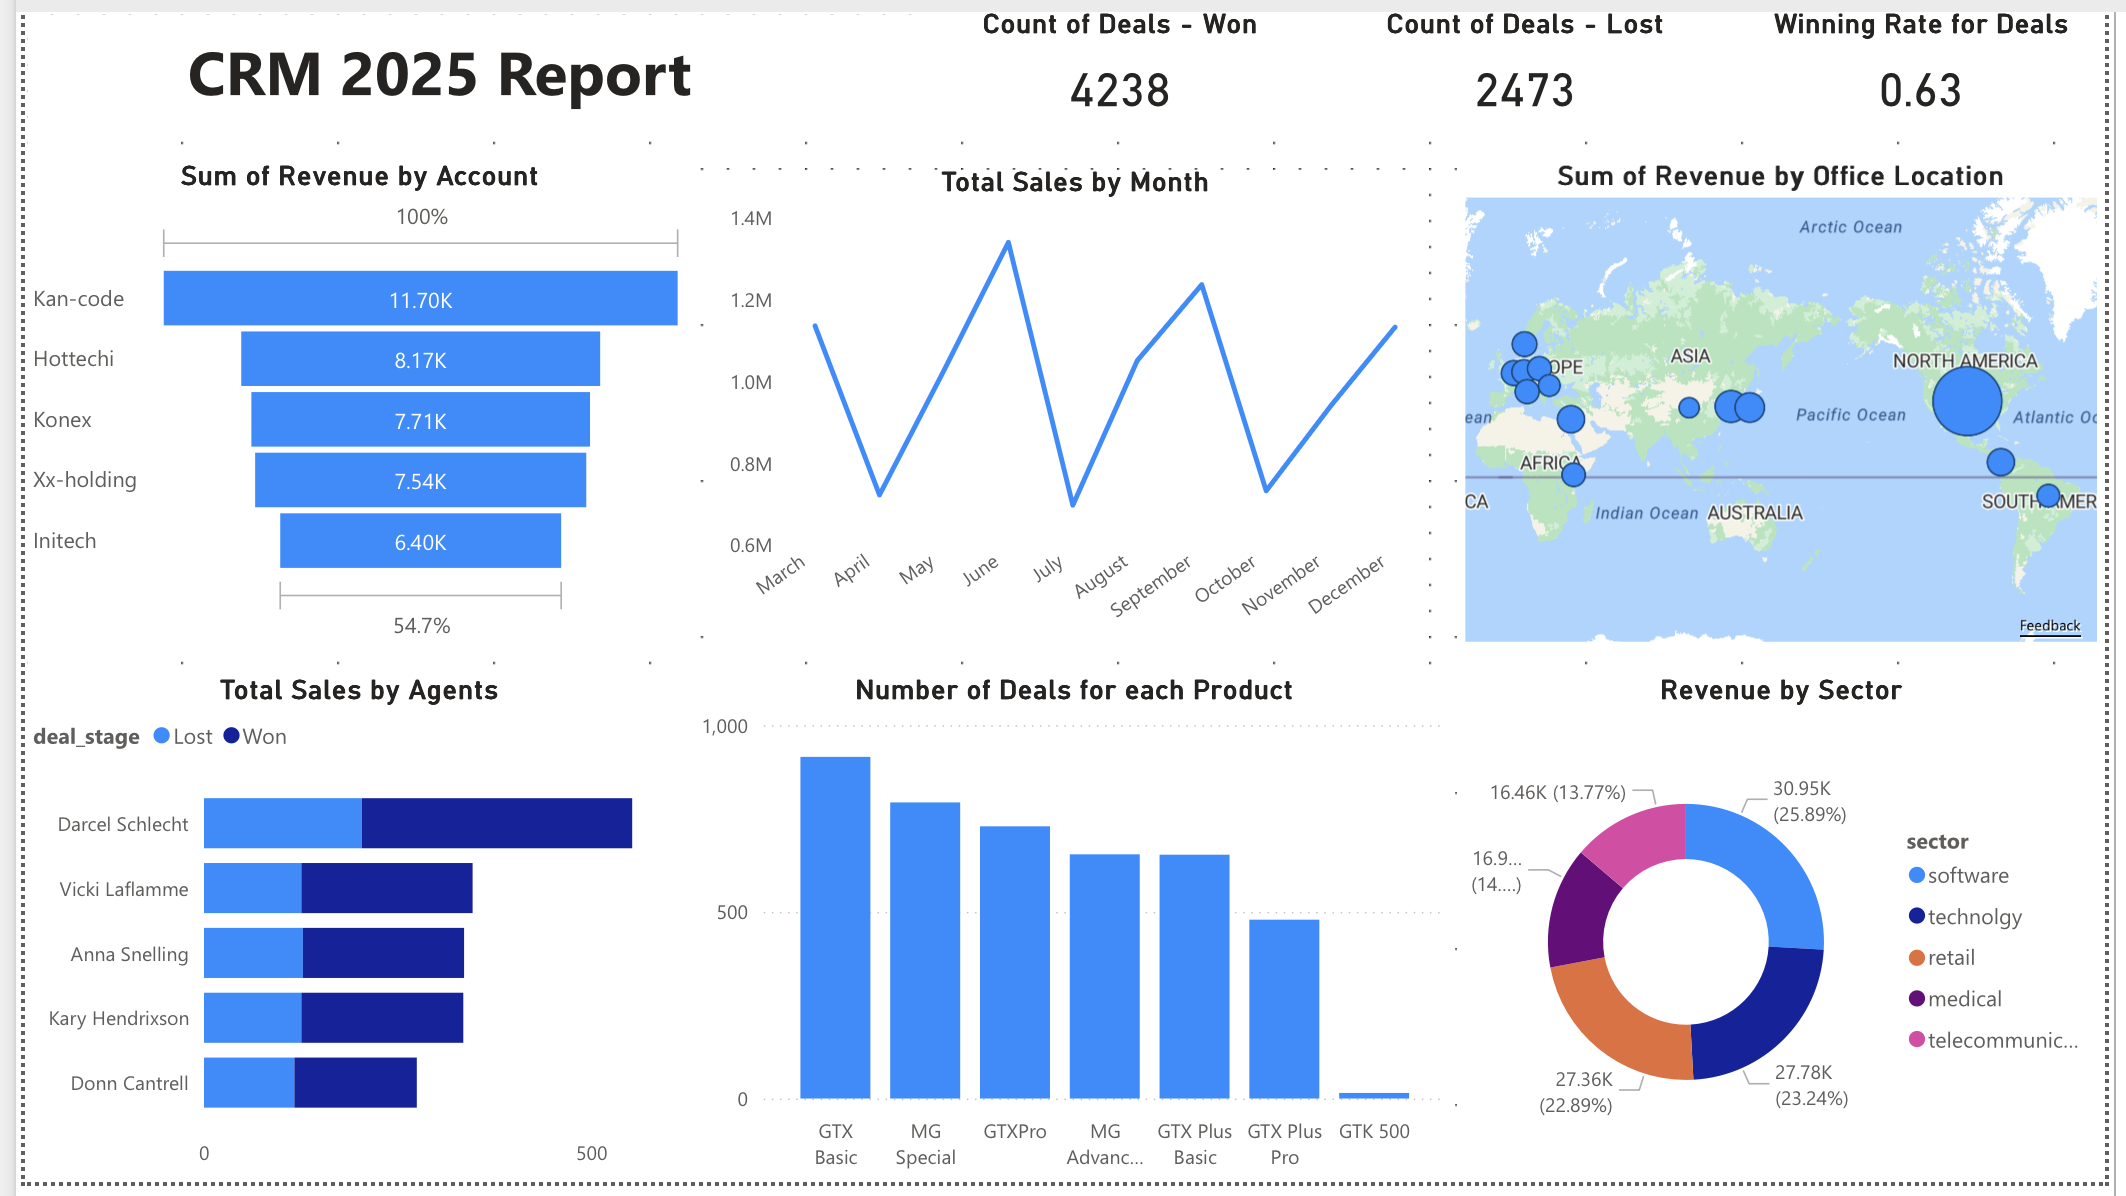

What the dashboard file says about the page in this screenshot:
{"tool":"powerbi","page":{"name":"Page 1","canvas":[1280,720],"ordinal":0},"visuals":[{"type":"barChart","title":"Total Sales by Agents","fields":{"Category":["Sales Pipeline.sales_agent"],"Y":["Sales Pipeline.close_value"],"Series":["Sales Pipeline.deal_stage"]},"box":[0,409.8,411.1,310.2],"z":0},{"type":"lineChart","title":"Total Sales by Month","fields":{"Y":["Sales Pipeline.close_value"],"Category":["Sales Pipeline.close_date.Variation.Date Hierarchy.Month"]},"box":[428.3,97.2,435.7,299.1],"z":1000},{"type":"azureMap","title":"Sum of Revenue by Office Location","fields":{"Category":["Accounts.office_location"],"Size":["Accounts.revenue"]},"box":[881.2,93.5,398.8,299.1],"z":2000},{"type":"funnel","title":"Sum of Revenue by Account","fields":{"Category":["Accounts.account"],"Y":["Accounts.revenue"]},"box":[0,93.1,411.6,299.6],"z":3000},{"type":"columnChart","title":"Number of Deals for each Product","fields":{"Category":["Sales Pipeline.product"],"Y":["Sales Pipeline.opportunity_id"]},"box":[411.1,409.8,468.9,310.2],"z":4000},{"type":"donutChart","title":"Revenue by Sector","fields":{"Y":["Accounts.revenue"],"Category":["Accounts.sector"]},"box":[881.2,409.8,398.8,310.2],"z":5000},{"type":"kpi","title":"Count of Deals - Won","fields":{"Indicator":["Sales Pipeline.close_value"],"TrendLine":["Sales Pipeline.deal_stage"]},"box":[555.1,0,237.5,78.8],"z":6000},{"type":"kpi","title":"Count of Deals - Lost","fields":{"Indicator":["Sales Pipeline.close_value"],"TrendLine":["Sales Pipeline.deal_stage"]},"box":[792.6,0,260.9,78.8],"z":7000},{"type":"kpi","title":"Winning Rate for Deals","fields":{"Indicator":["Sales Pipeline.WinRate%"],"TrendLine":["Sales Pipeline.deal_stage"]},"box":[1053.5,0,226.5,78.8],"z":8000},{"type":"textbox","box":[9.8,6.2,500.9,72.6],"z":9000}]}

Visuals, with their boxes in screenshot pixels (x1, y1, x2, y2), scaled from the page's 1280x720 canvas onto the 2126x1196 screenshot:
"Total Sales by Agents" barChart: (left=0, top=681, right=683, bottom=1195)
"Total Sales by Month" lineChart: (left=711, top=161, right=1435, bottom=658)
"Sum of Revenue by Office Location" azureMap: (left=1464, top=155, right=2125, bottom=652)
"Sum of Revenue by Account" funnel: (left=0, top=155, right=684, bottom=652)
"Number of Deals for each Product" columnChart: (left=683, top=681, right=1462, bottom=1195)
"Revenue by Sector" donutChart: (left=1464, top=681, right=2125, bottom=1195)
"Count of Deals - Won" kpi: (left=922, top=0, right=1316, bottom=131)
"Count of Deals - Lost" kpi: (left=1316, top=0, right=1750, bottom=131)
"Winning Rate for Deals" kpi: (left=1750, top=0, right=2125, bottom=131)
textbox: (left=16, top=10, right=848, bottom=131)
